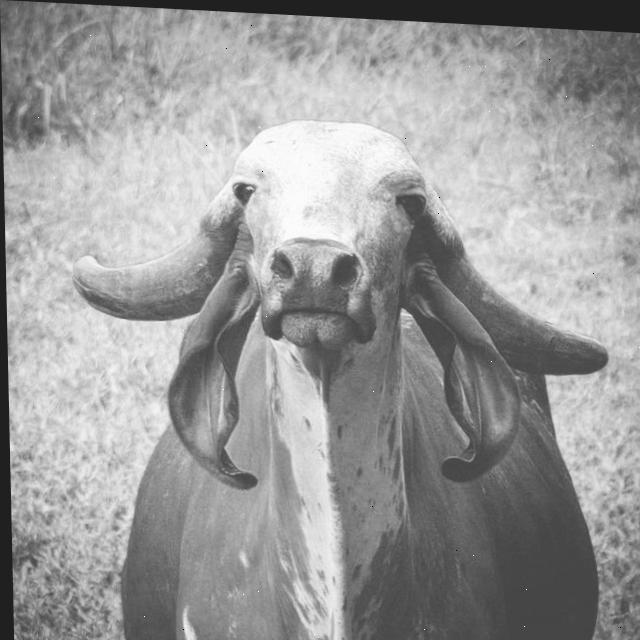Cow: (68, 105, 616, 640)
